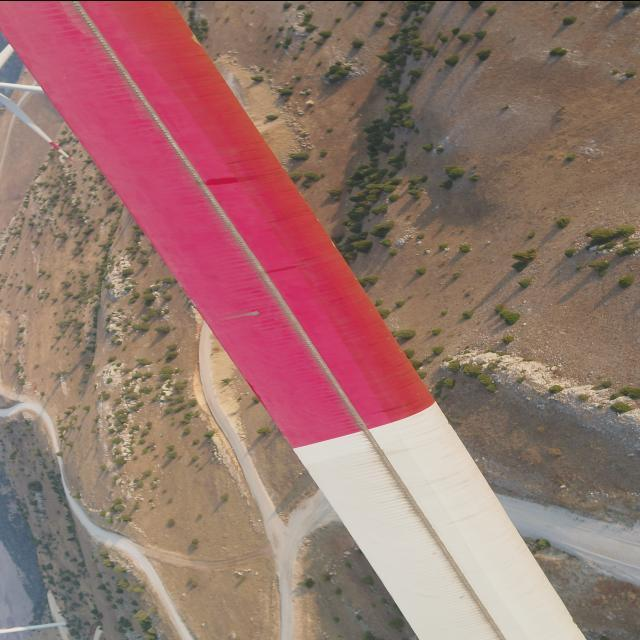EROSION: (191, 27, 207, 53)
